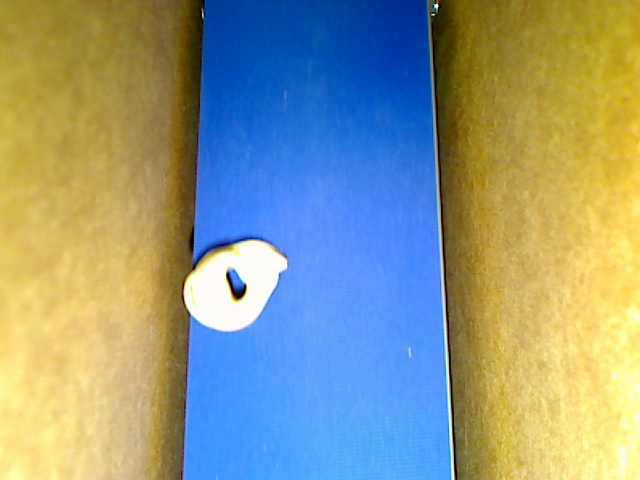tortellini: (182, 238, 287, 332)
